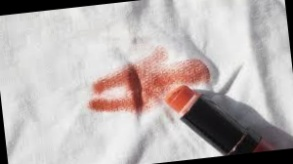lipstick: (81, 50, 217, 118)
